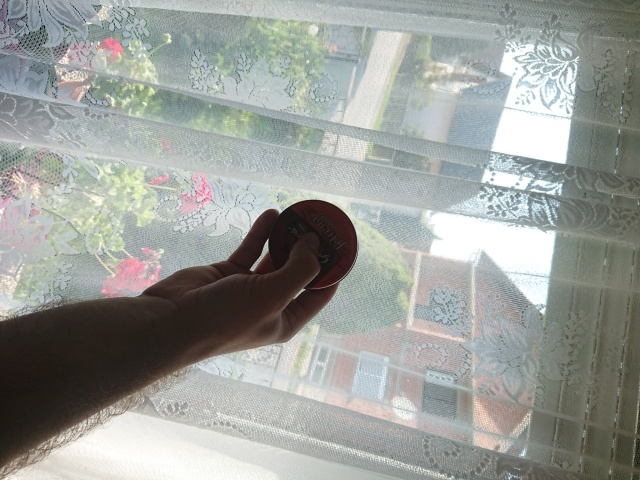Gavrilovic Pork Liver Pate 100g: (265, 197, 361, 293)
